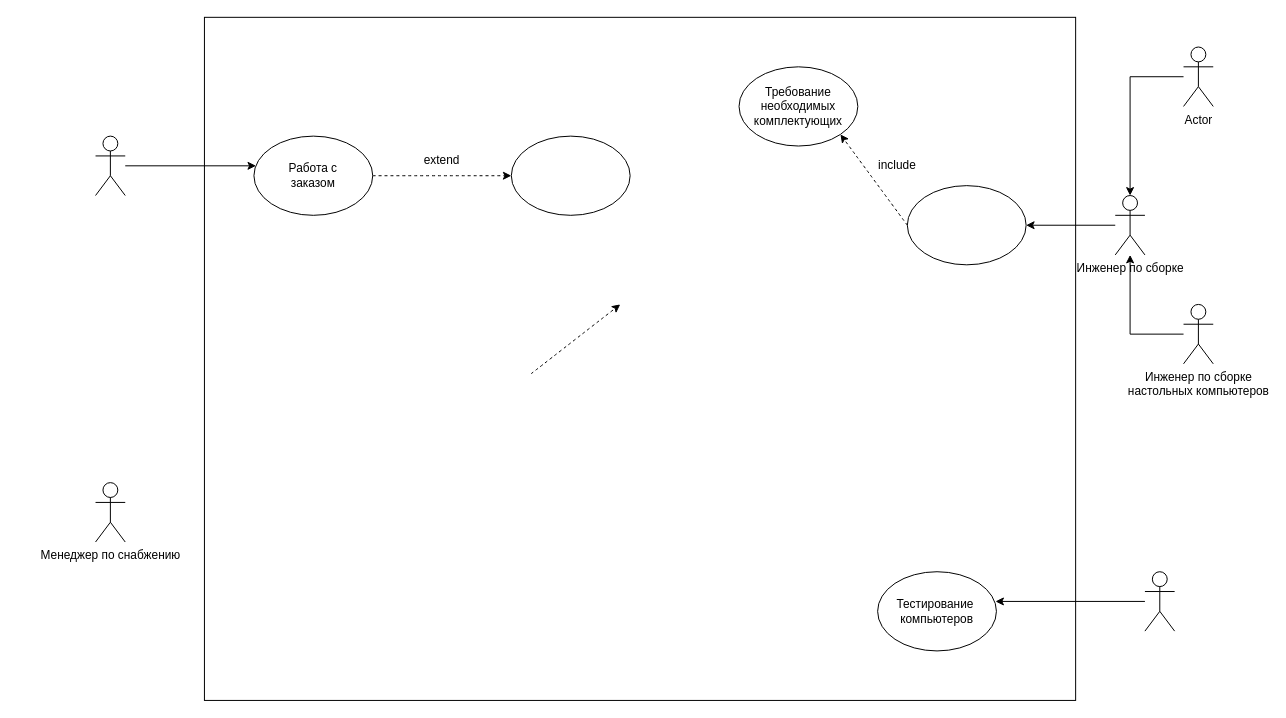
Image size: 1286x718. Some labels were removed from this diagram. The centre of each missing label's shape, as x and y in pixels:
Инженер по тестированию: point 1159,601
Менеджер по работе с клиентами: point 110,165
Сборка компьютеров: point 966,225
